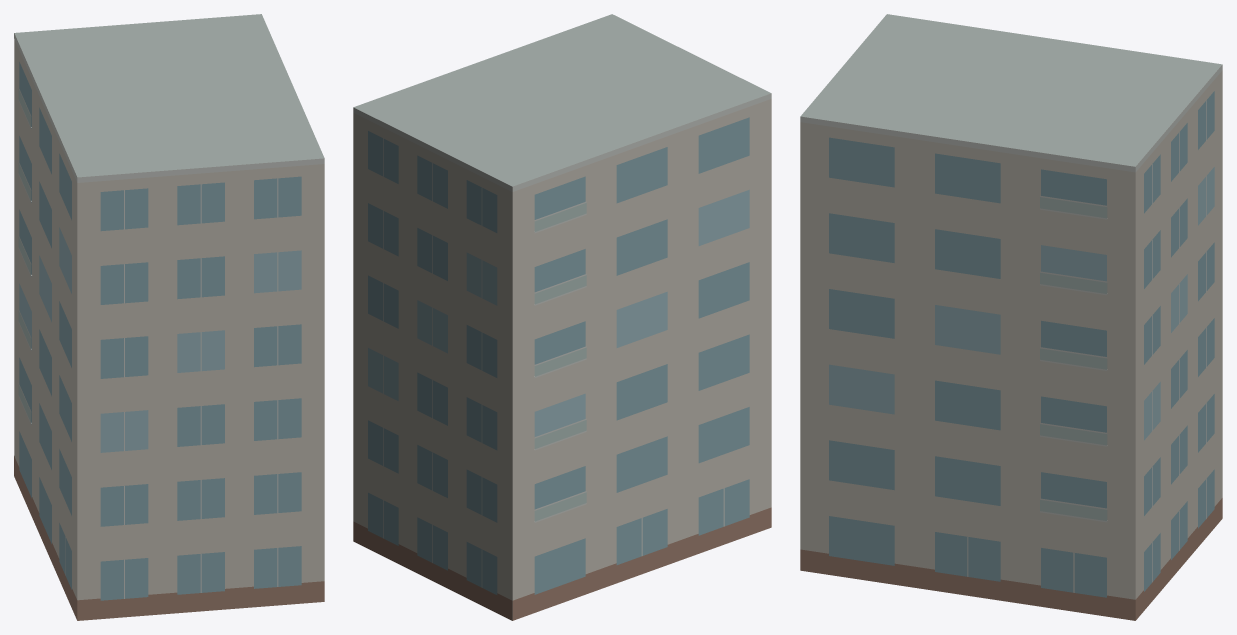
File: survey-upis-32894271.glb
The picture shows the model from 3 angles, left to right: view 1: azimuth 30°, elevation 25°; view 2: azimuth 150°, elevation 25°; view 3: azimuth 270°, elevation 25°; orthographic projection. The views are drawn at different scales.
Visible parts, largest first — view 1: survey-upis-32894271.tmp; view 2: survey-upis-32894271.tmp; view 3: survey-upis-32894271.tmp.
Part boxes in pixels (x1=…): survey-upis-32894271.tmp: x1=14, y1=14, x2=324, y2=620; survey-upis-32894271.tmp: x1=353, y1=14, x2=771, y2=620; survey-upis-32894271.tmp: x1=800, y1=14, x2=1222, y2=620.
Size of the model in its own units: 14.08 by 19.5 by 16.44.
